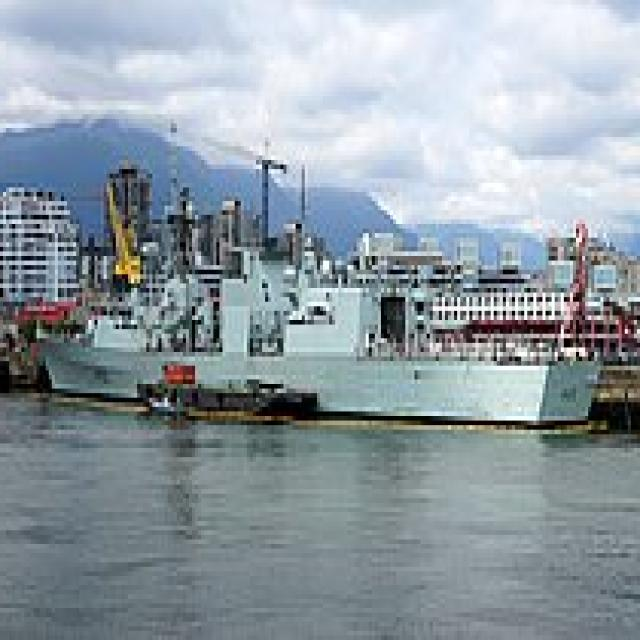Warship: (33, 238, 610, 430)
